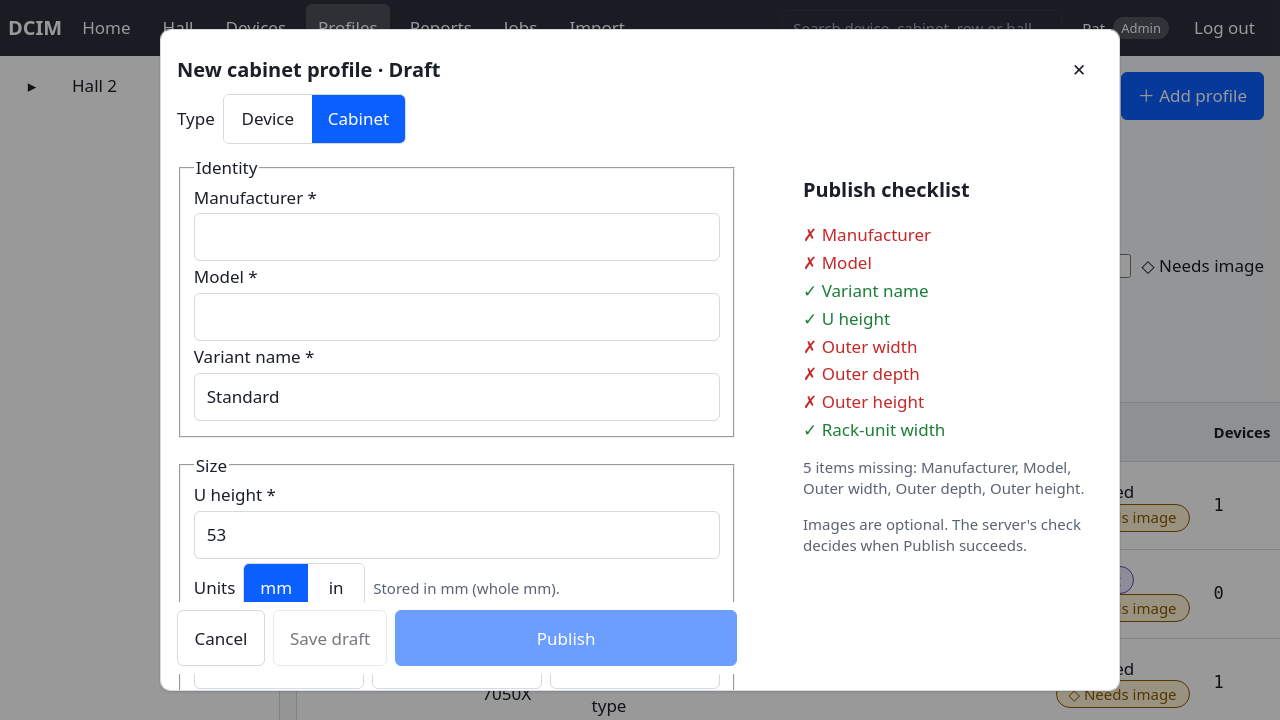
Scenario: Add profile: Cabinet type (admin only) › Cancel with changes asks "Discard changes?"
This screenshot has width=1280, height=720.
Type "X" into the field labelled "Manufacturer" at (457,237), box [194, 213, 720, 261]
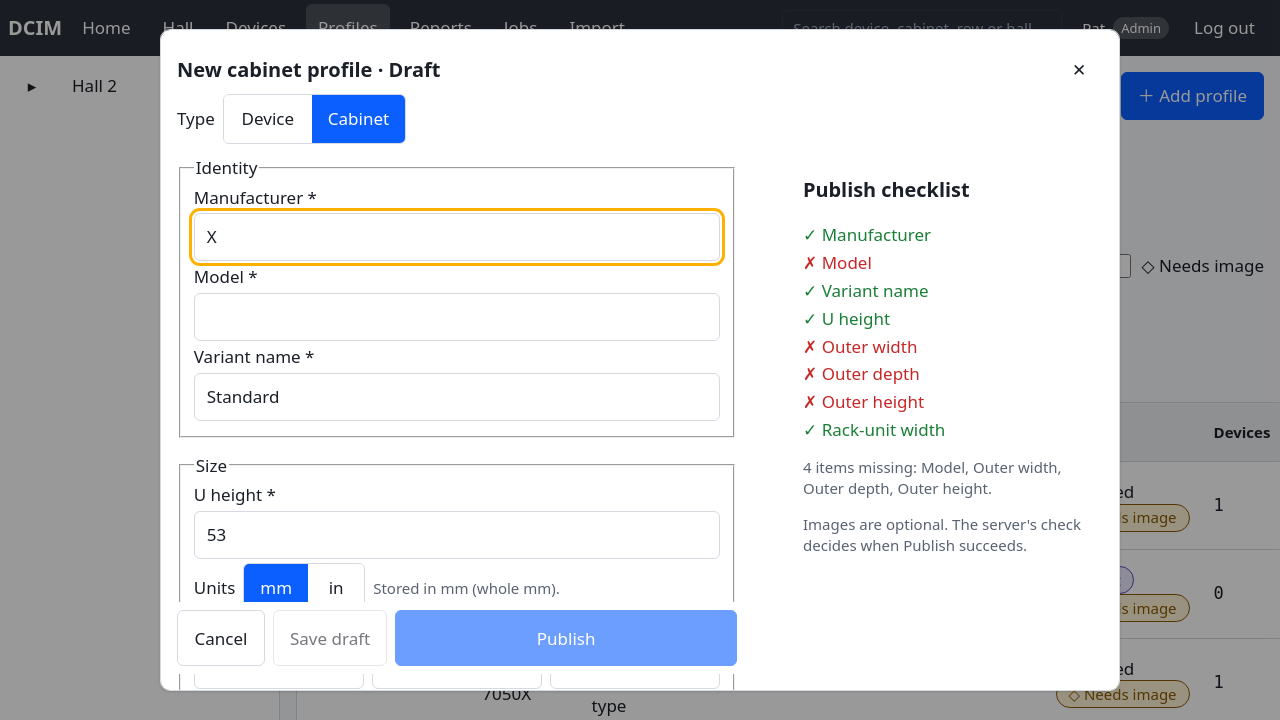
Click the button "Cancel" at (221,638), box [177, 610, 265, 666]
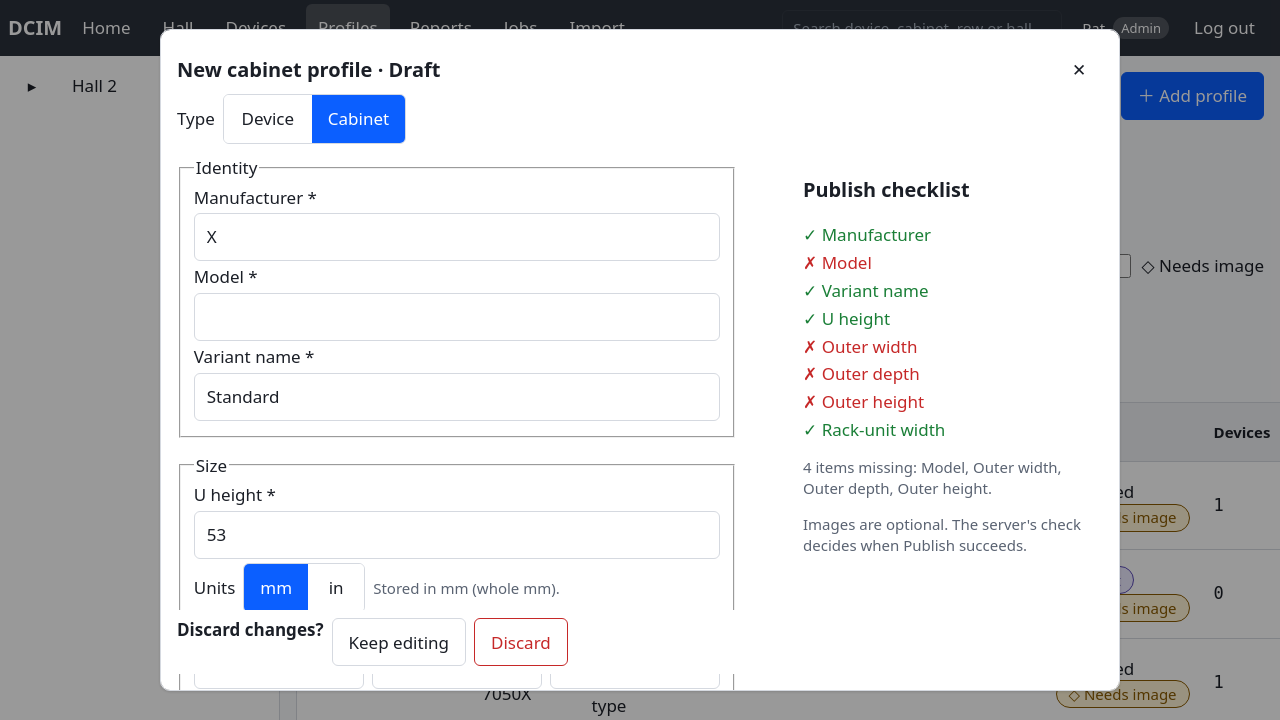
Click the button "Keep editing" at (399,642), box [332, 618, 466, 666]
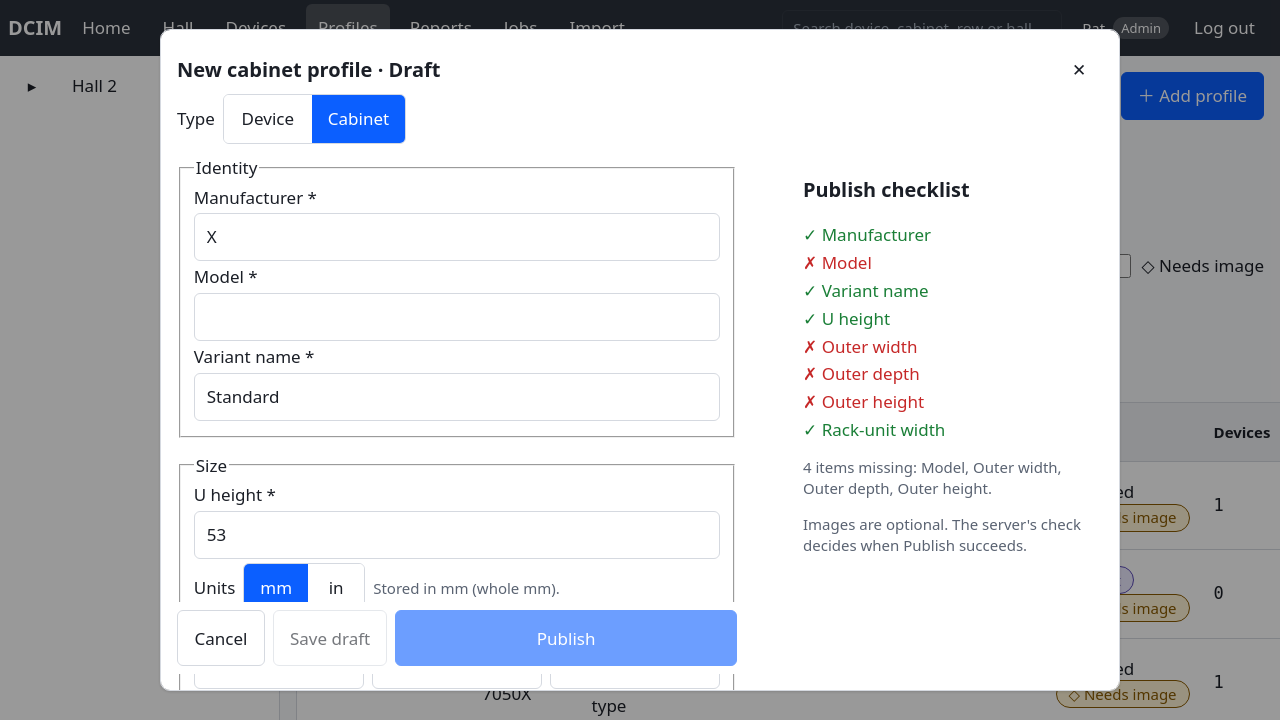
Click the button "Cancel" at (221,638), box [177, 610, 265, 666]
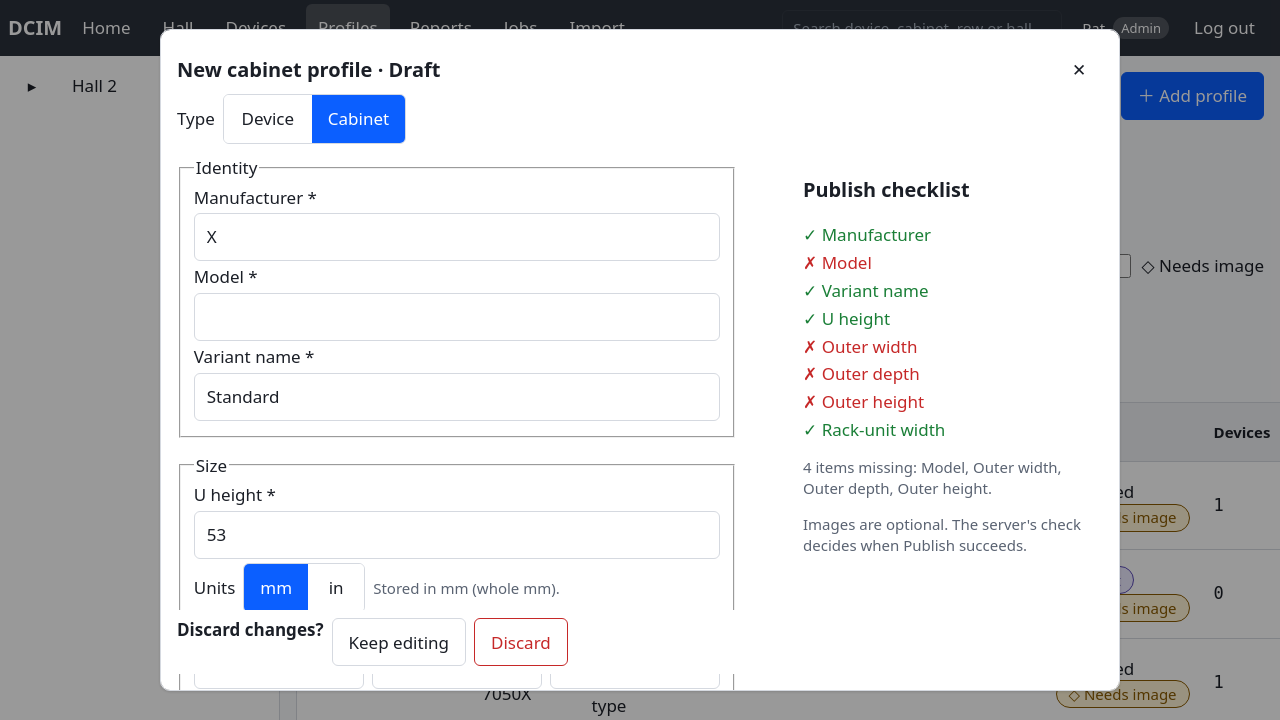
Click the button "Discard" at (521,642), box [474, 618, 568, 666]
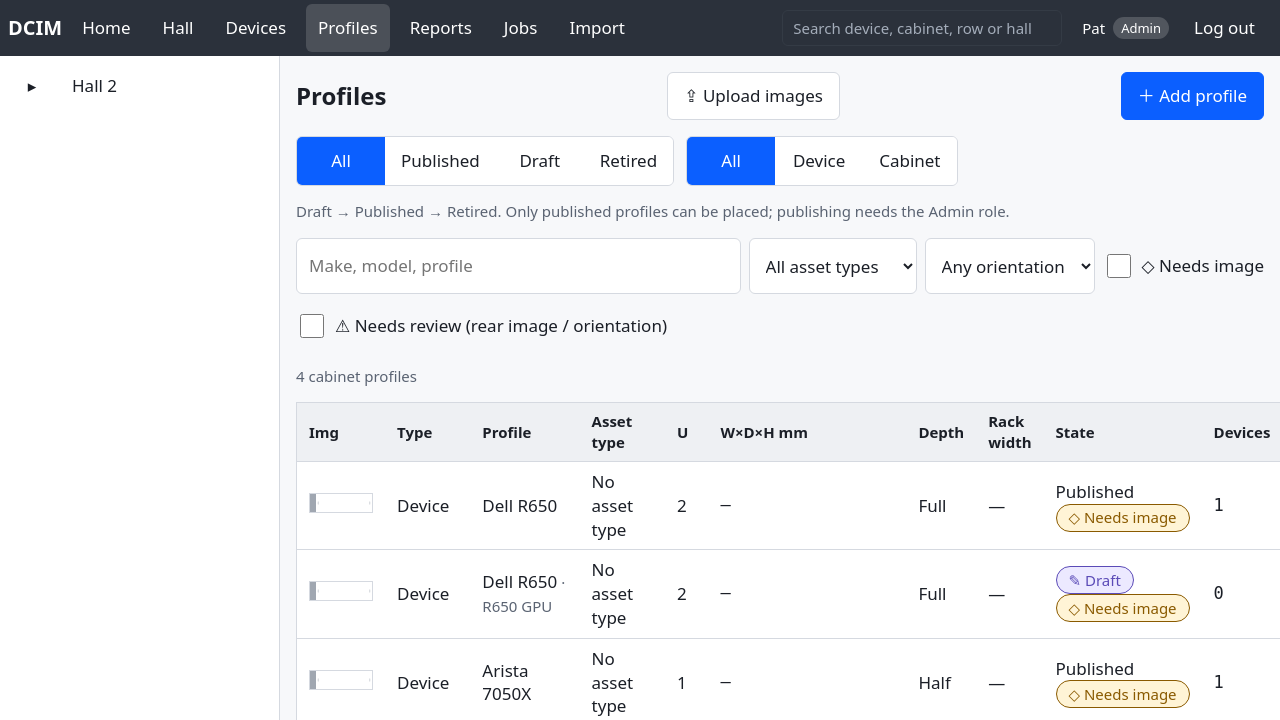
Check: the dialog is gone
